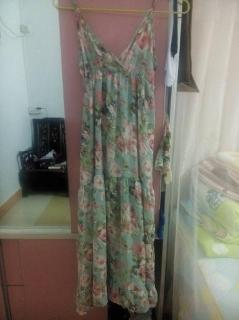sling: (72, 0, 159, 315)
